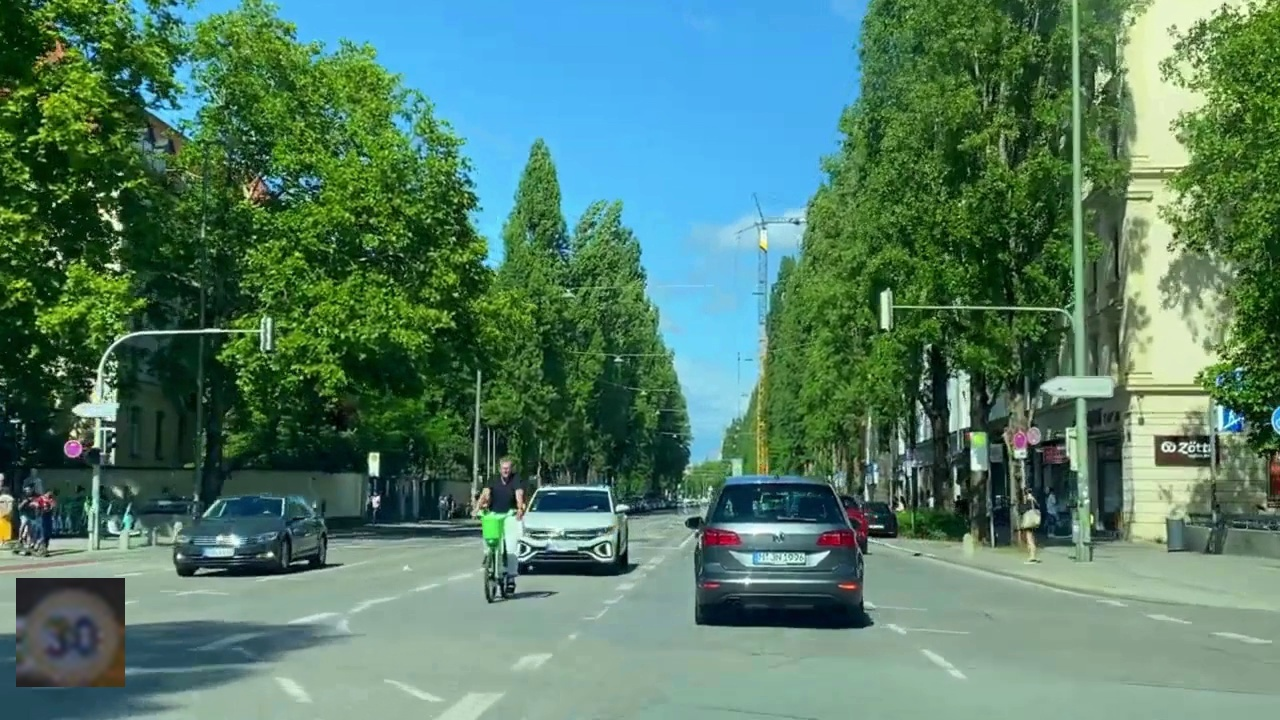Speed 30: (16, 578, 125, 687)
